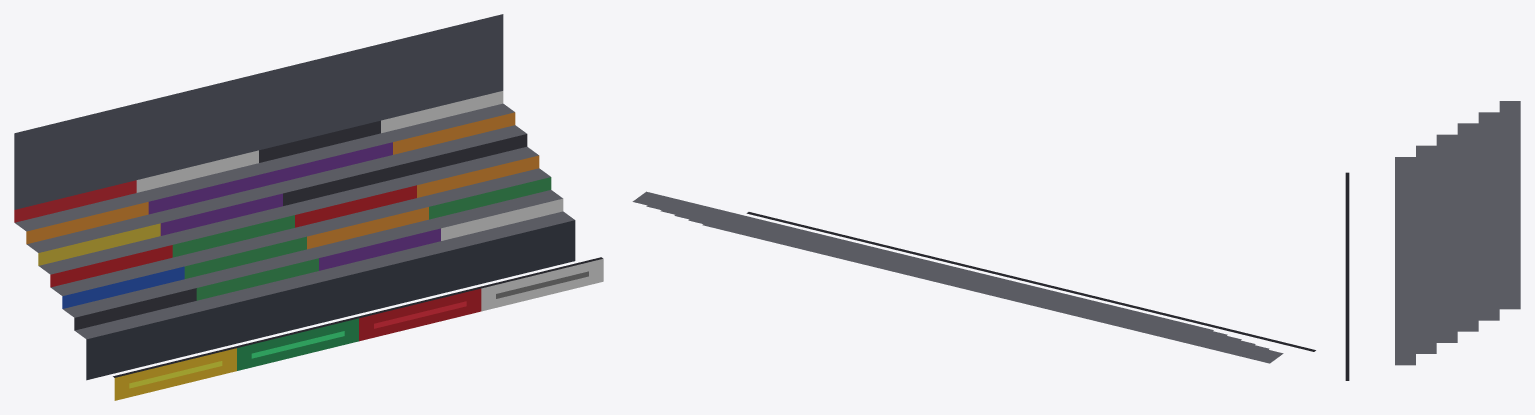
Rendered from stand_end_a.glb.
3 views of the same model, side by side, from view 1: azimuth 30°, elevation 25°; view 2: azimuth 150°, elevation 25°; view 3: azimuth 270°, elevation 25° (orthographic). The views are drawn at different scales.
Visible parts, largest first — view 1: stand_end_a; view 2: stand_end_a; view 3: stand_end_a.
Part boxes in pixels (bbox=[...]): stand_end_a: bbox=[14, 14, 603, 400]; stand_end_a: bbox=[632, 191, 1315, 363]; stand_end_a: bbox=[1345, 101, 1520, 380].
Bounding box in the file's own units: 20 × 8 × 7.11.
